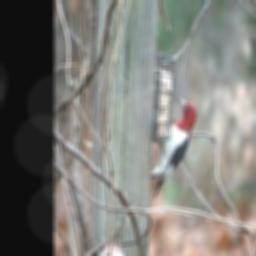Woodpecker: (145, 89, 200, 201)
